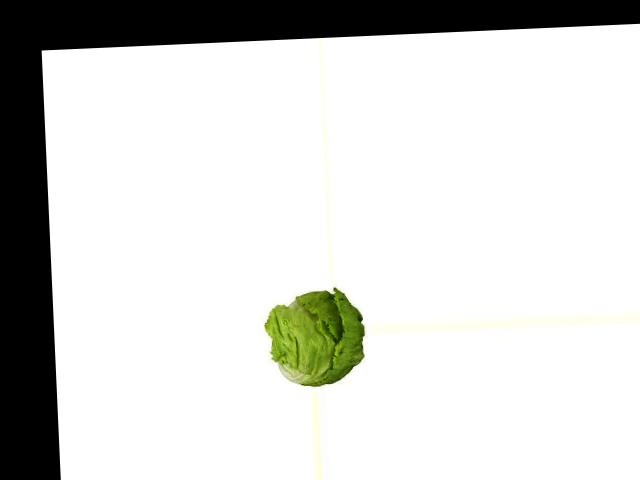lettuce: (267, 288, 366, 391)
